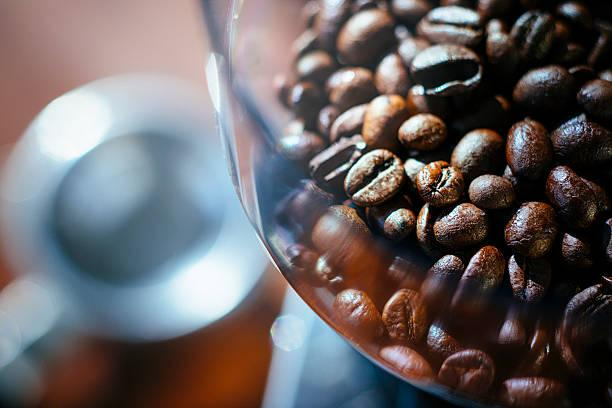organic: (408, 41, 484, 106), (560, 284, 611, 362), (544, 166, 606, 229), (335, 7, 395, 65), (345, 147, 403, 204), (504, 117, 554, 183), (549, 116, 611, 169), (513, 64, 574, 117), (504, 201, 559, 258), (416, 5, 484, 48), (436, 349, 497, 396), (331, 287, 384, 340), (432, 202, 490, 250), (508, 9, 558, 64), (381, 287, 429, 343), (311, 204, 364, 254), (362, 93, 409, 148), (459, 245, 507, 298), (417, 260, 461, 316), (496, 375, 569, 406), (416, 160, 464, 206), (507, 254, 551, 304), (327, 67, 376, 110), (398, 112, 448, 152), (468, 173, 516, 211), (275, 128, 327, 163), (426, 321, 466, 361), (386, 255, 426, 293), (416, 201, 443, 256), (294, 48, 336, 82), (287, 79, 322, 116), (314, 252, 347, 289), (587, 23, 612, 69), (556, 1, 593, 31), (285, 242, 319, 273), (497, 312, 528, 346), (390, 0, 432, 24), (427, 254, 465, 280), (303, 178, 337, 205), (476, 1, 514, 19), (272, 73, 293, 105), (300, 1, 323, 29), (281, 118, 306, 140), (354, 1, 380, 14), (599, 274, 612, 297), (440, 0, 471, 9)
